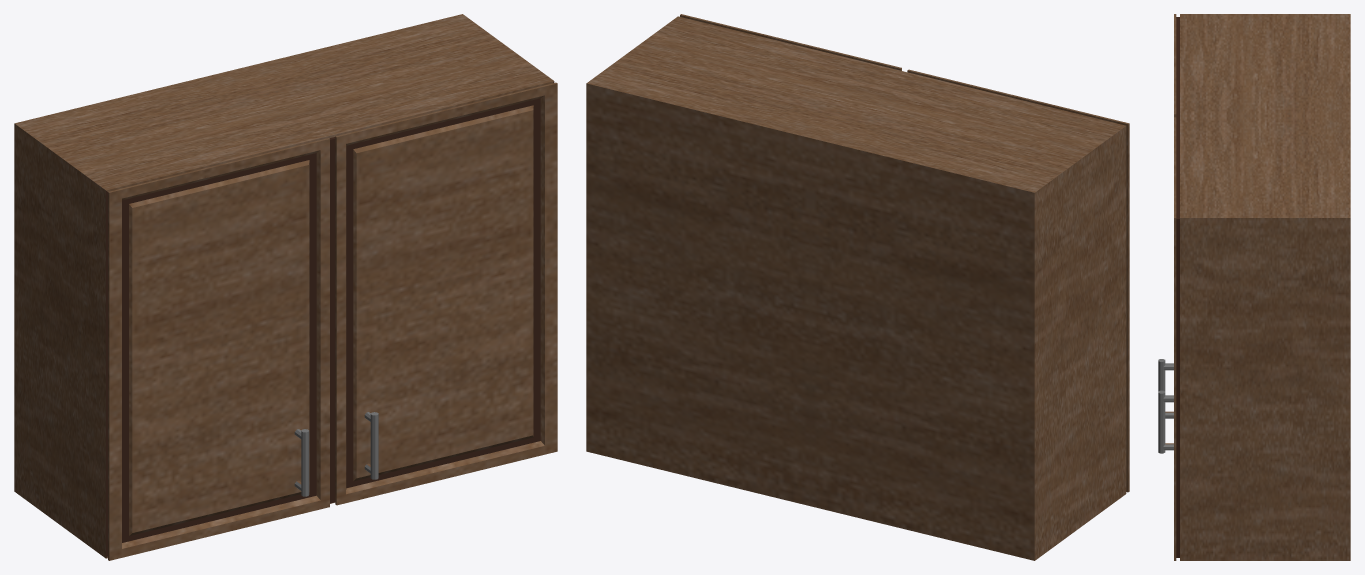
The model's file is WoodenWallCabinet.fbx.
3 renders of one model, left to right at view 1: azimuth 30°, elevation 25°; view 2: azimuth 150°, elevation 25°; view 3: azimuth 270°, elevation 25°, orthographic. The views are drawn at different scales.
Parts seen in each view (by area): view 1: shkaph_Material_0, shkaph_Material.001_0, shkaph_Material.002_0; view 2: shkaph_Material_0; view 3: shkaph_Material_0, shkaph_Material.001_0, shkaph_Material.002_0.
Part boxes in pixels (<box>): shkaph_Material_0: <box>14,14,557,560</box>; shkaph_Material.001_0: <box>106,81,554,557</box>; shkaph_Material.002_0: <box>294,412,378,496</box>; shkaph_Material_0: <box>586,14,1129,560</box>; shkaph_Material_0: <box>1165,14,1350,560</box>; shkaph_Material.001_0: <box>1176,17,1179,557</box>; shkaph_Material.002_0: <box>1158,359,1173,453</box>.
Size of the model in its own units: 82 by 64.33 by 32.72.
3 materials, 1 textured.
